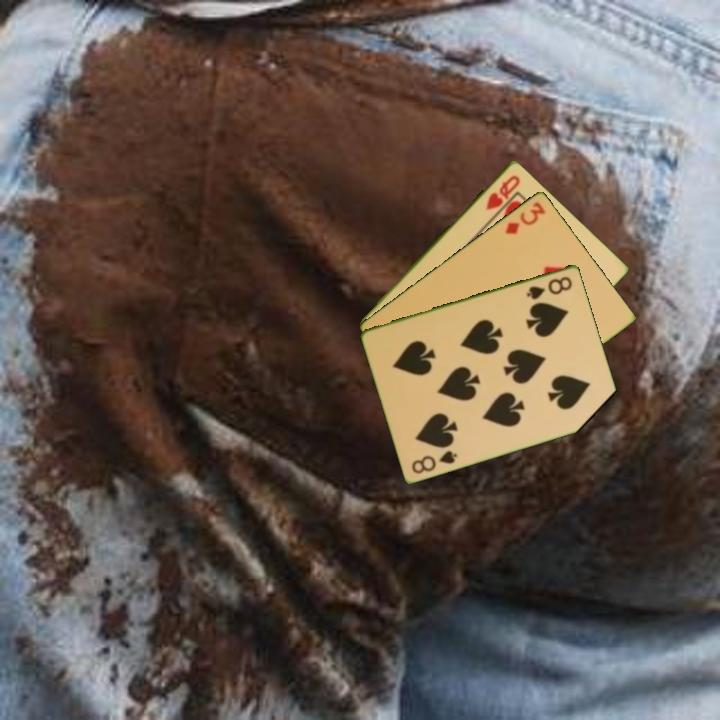3d: (502, 198, 549, 237)
8s: (408, 446, 461, 476), (523, 272, 575, 302)
Qh: (482, 171, 523, 213)
